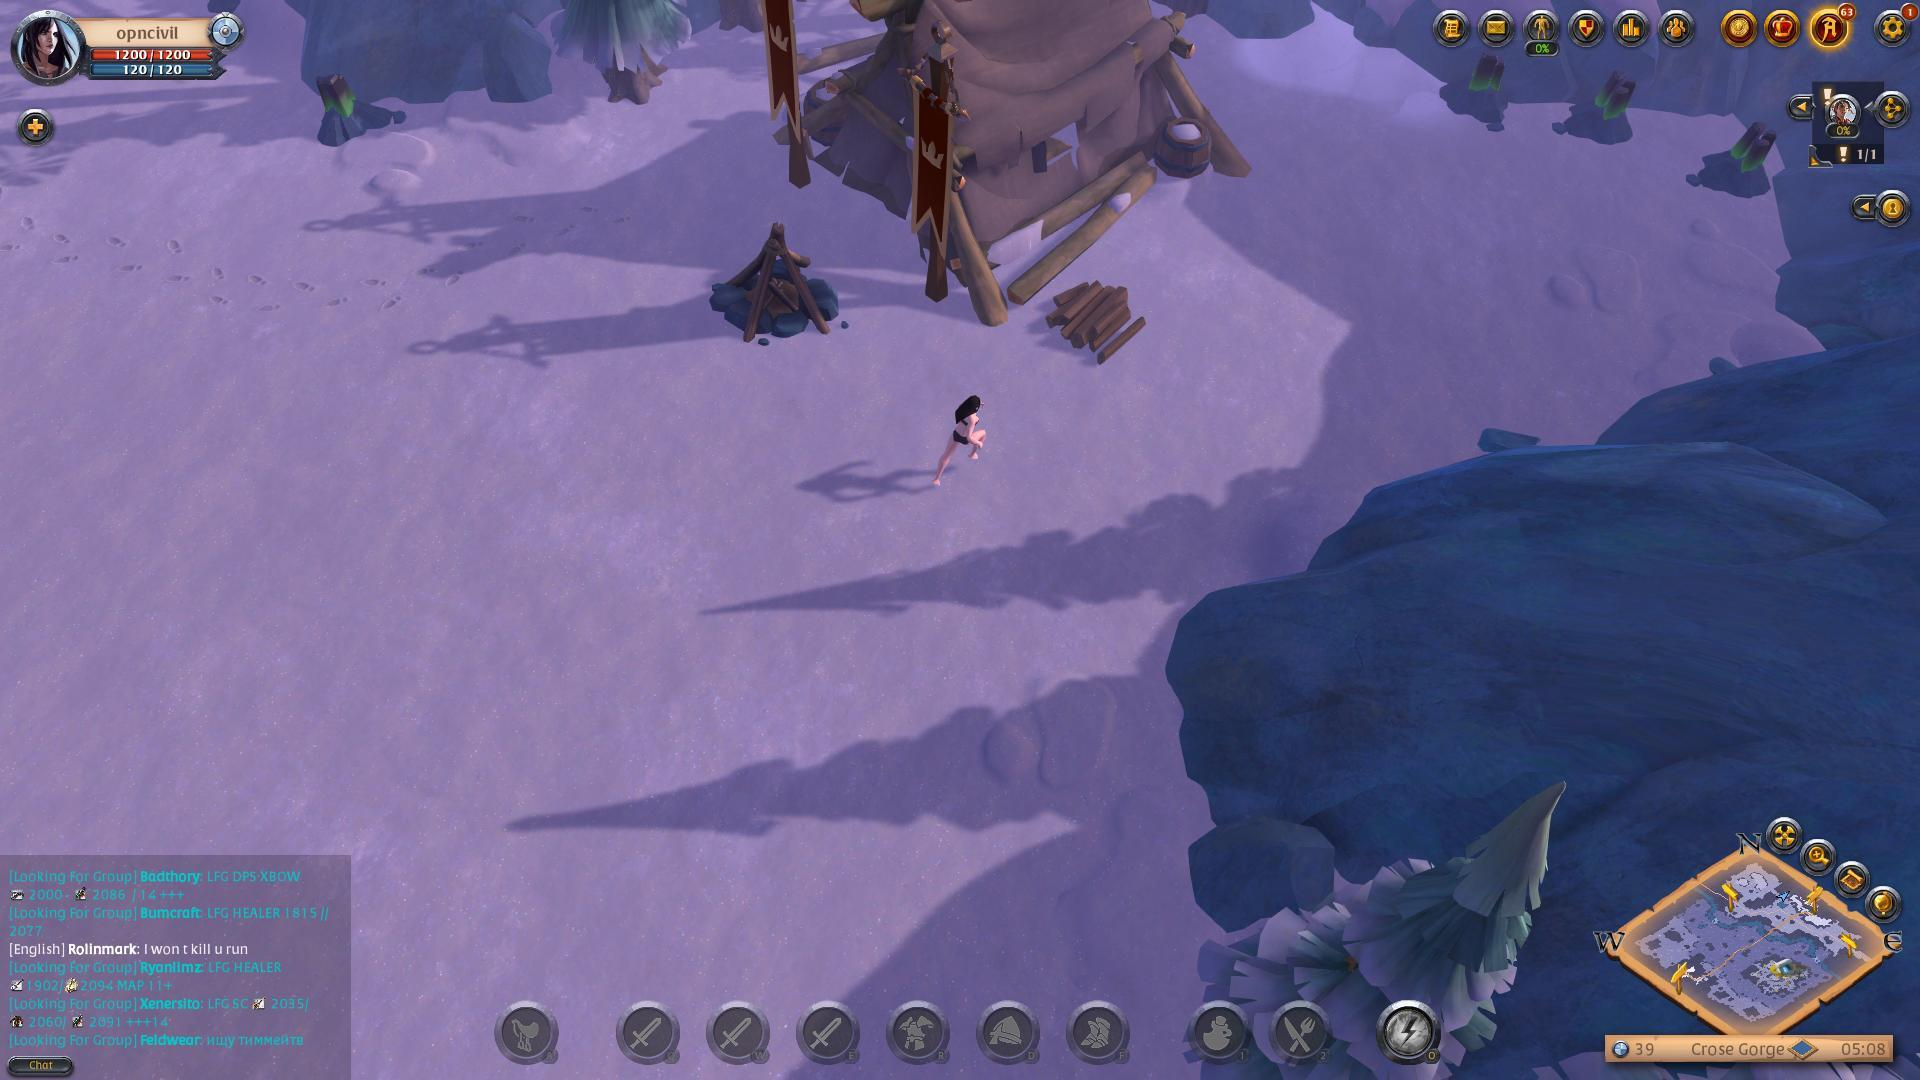tin_ore: (297, 65, 417, 150), (1559, 61, 1651, 153), (1443, 50, 1527, 136), (1695, 119, 1784, 198)
